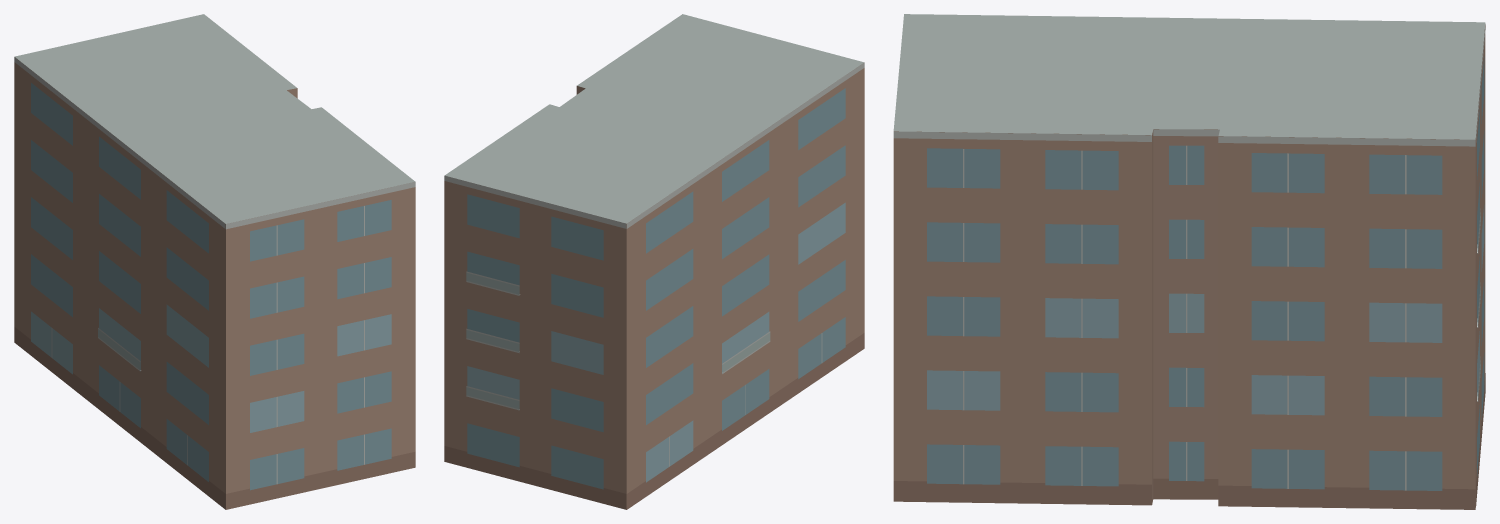
The model's file is survey-upis-32639610.glb.
3 views of the same model, side by side, from view 1: azimuth 30°, elevation 25°; view 2: azimuth 150°, elevation 25°; view 3: azimuth 270°, elevation 25° (orthographic). The views are drawn at different scales.
Visible parts, largest first — view 1: survey-upis-32639610.tmp; view 2: survey-upis-32639610.tmp; view 3: survey-upis-32639610.tmp.
Part boxes in pixels (x1,y1,x2,y2): survey-upis-32639610.tmp: (14, 14, 415, 509); survey-upis-32639610.tmp: (444, 14, 864, 509); survey-upis-32639610.tmp: (893, 14, 1485, 509).
Bounding box in the file's own units: 9.55 × 13.1 × 18.99.
